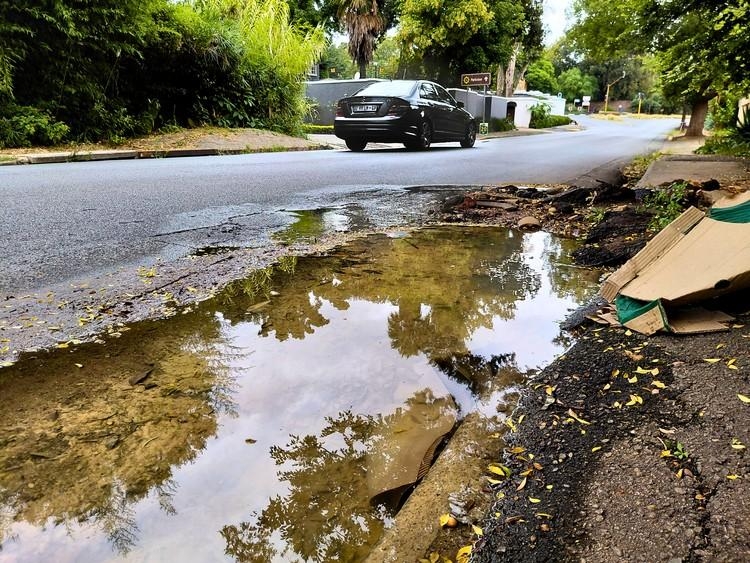water accumulation: (0, 186, 614, 563)
